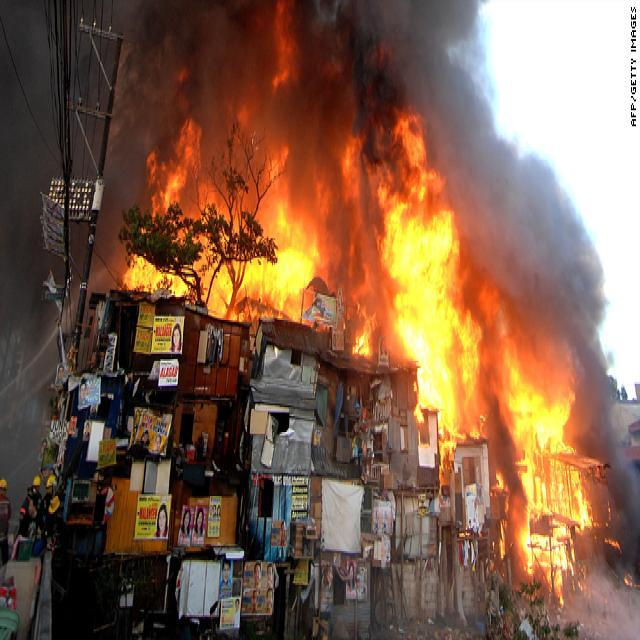Fire: (366, 101, 482, 461), (504, 339, 601, 602), (252, 214, 319, 331), (142, 115, 208, 221), (124, 240, 199, 296)
Smoke: (451, 0, 606, 302), (0, 0, 128, 283)
